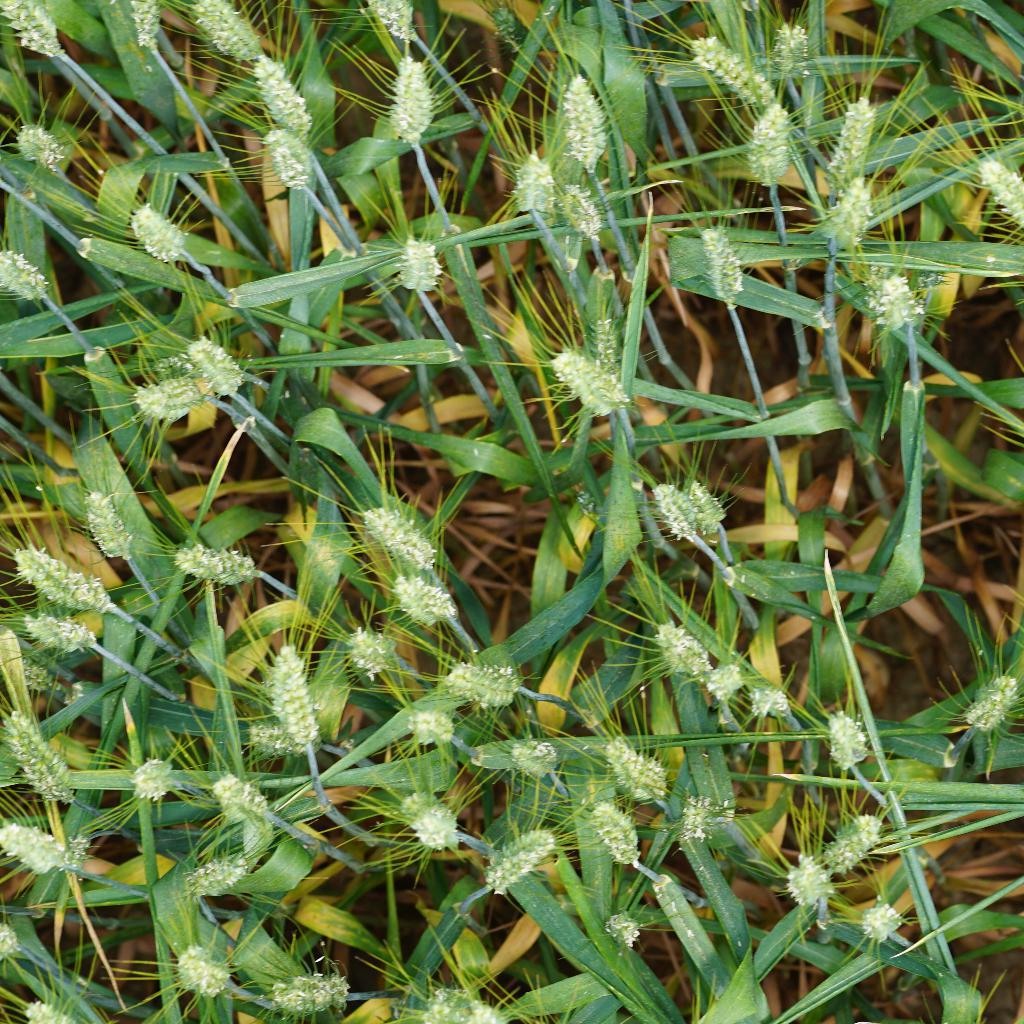0-0: (3, 701, 92, 803), (261, 637, 334, 759), (14, 545, 131, 619), (555, 74, 634, 180), (814, 92, 889, 198), (585, 727, 681, 808), (683, 215, 754, 321), (682, 32, 780, 108), (574, 793, 671, 869), (242, 127, 332, 208), (938, 671, 1024, 755), (381, 49, 451, 144), (357, 499, 440, 579), (0, 822, 97, 890), (804, 171, 884, 251), (126, 193, 208, 271), (557, 343, 635, 423), (247, 56, 324, 137), (387, 220, 456, 309), (810, 808, 897, 878), (168, 532, 268, 592), (474, 833, 572, 894), (180, 336, 265, 406), (0, 0, 86, 68), (73, 480, 143, 563), (743, 98, 804, 193), (677, 467, 744, 553), (201, 770, 291, 832), (185, 0, 260, 74), (236, 713, 330, 771), (550, 170, 619, 249), (432, 658, 524, 716), (863, 273, 935, 347), (393, 781, 464, 855), (639, 617, 718, 683), (178, 841, 262, 903), (156, 938, 238, 1000), (260, 969, 354, 1022), (124, 367, 210, 423), (503, 133, 556, 223), (393, 567, 467, 631), (21, 608, 111, 660), (825, 703, 884, 781), (646, 470, 701, 553), (122, 748, 191, 813), (845, 884, 907, 955), (388, 698, 474, 748), (498, 728, 567, 788), (0, 243, 75, 298), (587, 320, 651, 384), (764, 17, 820, 90), (2, 115, 75, 171), (668, 781, 733, 843), (475, 0, 540, 62), (783, 840, 838, 909), (978, 154, 1024, 234), (419, 985, 512, 1024), (0, 646, 75, 694), (594, 897, 651, 956), (736, 680, 800, 731), (342, 627, 408, 673), (111, 0, 168, 53), (707, 658, 754, 716), (361, 0, 421, 43), (141, 348, 212, 382), (57, 832, 98, 876), (568, 477, 603, 524)
